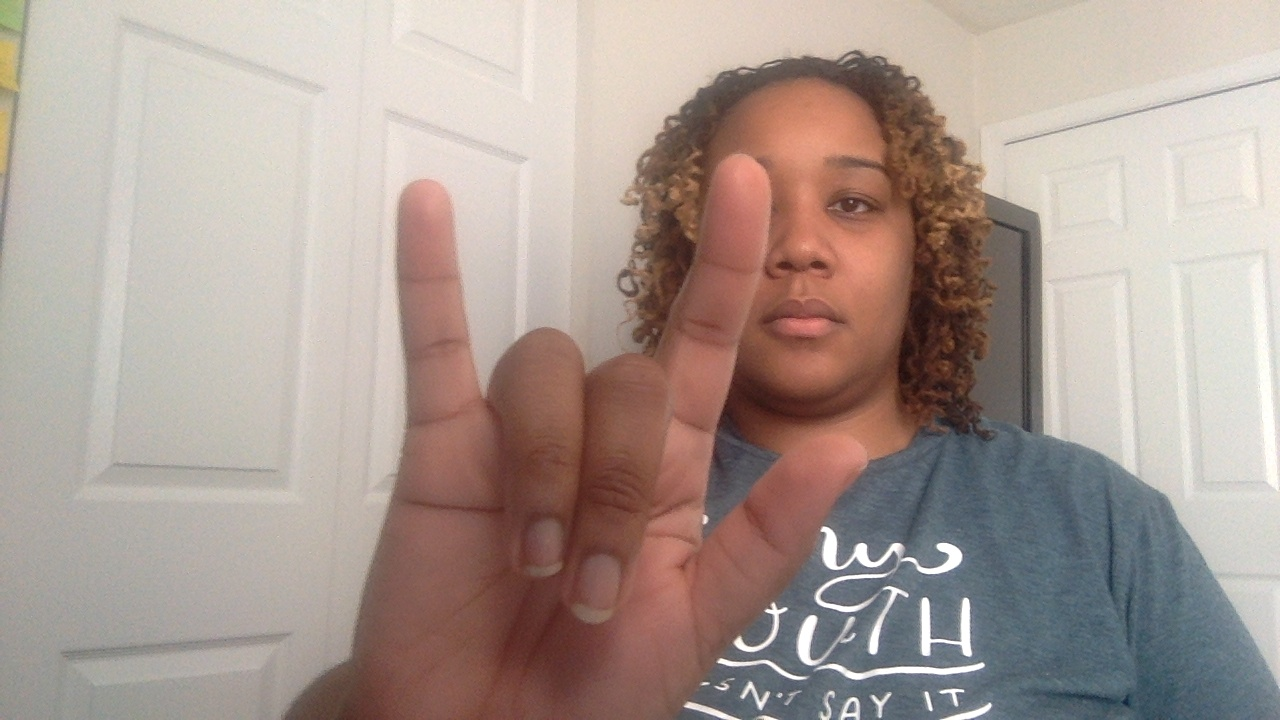i_love_you: (377, 154, 872, 718)
